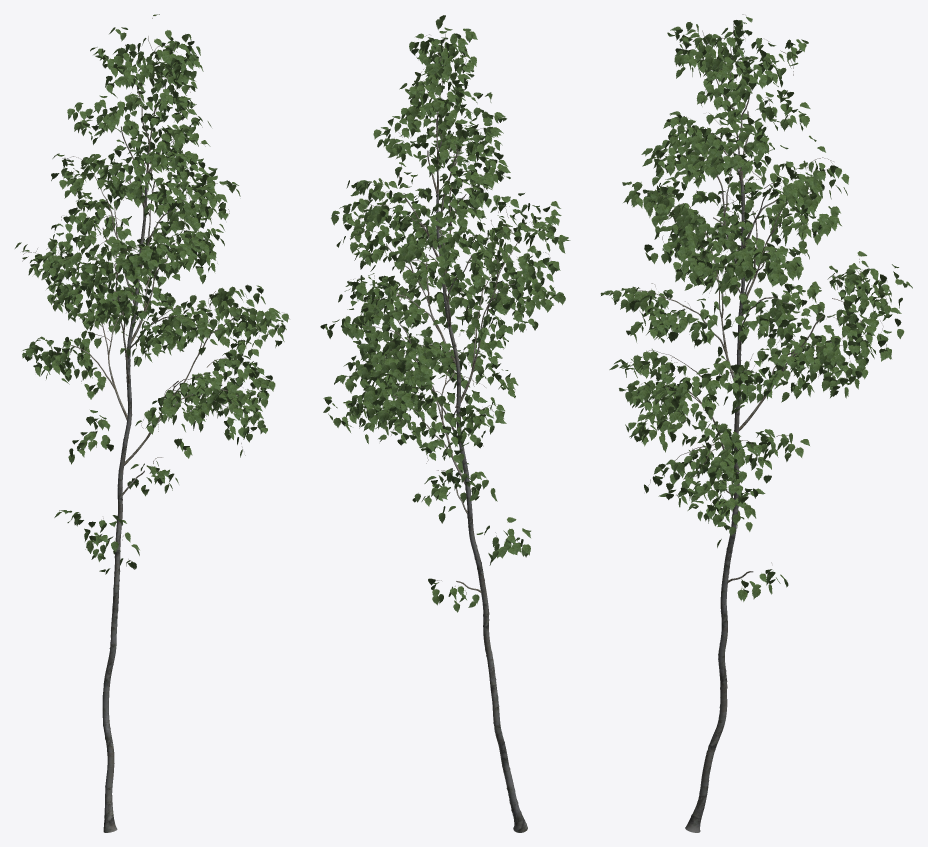
The model's file is garden_birch_07.glb.
3 renders of one model, left to right at view 1: azimuth 30°, elevation 25°; view 2: azimuth 150°, elevation 25°; view 3: azimuth 270°, elevation 25°, orthographic. The views are drawn at different scales.
Visible parts, largest first — view 1: garden_birch_07__lod0; view 2: garden_birch_07__lod0; view 3: garden_birch_07__lod0.
Boxes of the visible parts, left/top/right/bottom form: garden_birch_07__lod0: left=15, top=14, right=289, bottom=832; garden_birch_07__lod0: left=320, top=15, right=570, bottom=832; garden_birch_07__lod0: left=600, top=14, right=912, bottom=832.
Size of what is drawn, in the model's own units: 2.8 by 9.58 by 3.2.
Materials: 4 (4 with a texture image).
